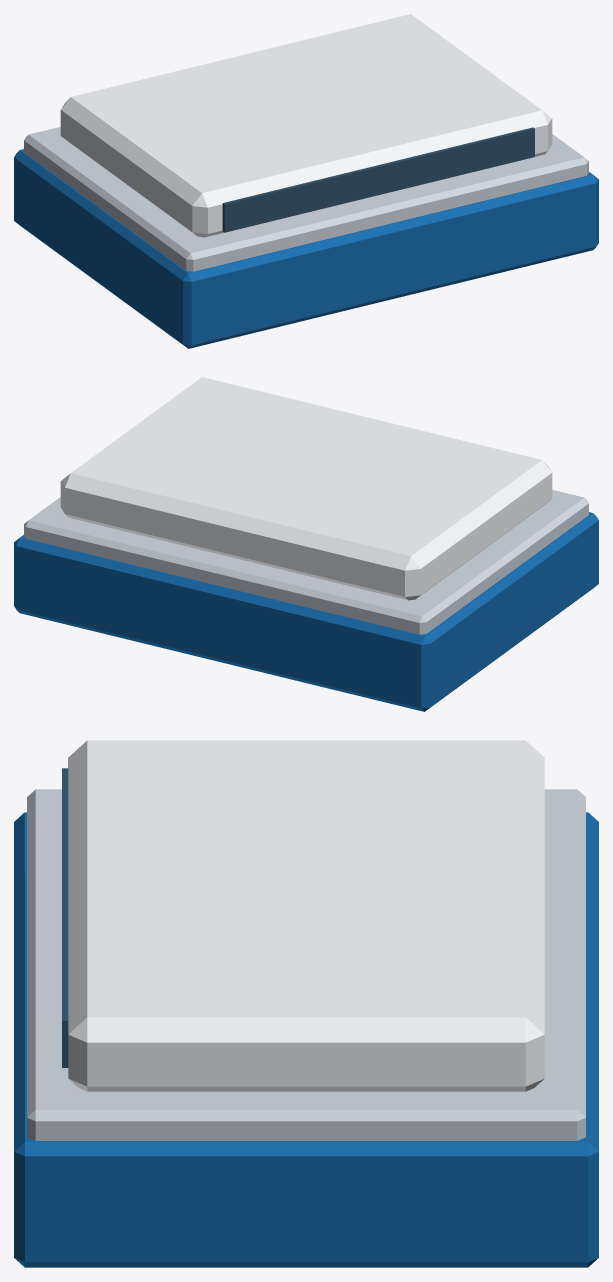
Rendered from SM_MPR4_RoofLight.fbx.
The picture shows the model from 3 angles, top to bottom: view 1: azimuth 30°, elevation 25°; view 2: azimuth 150°, elevation 25°; view 3: azimuth 270°, elevation 25°; orthographic projection. The views are drawn at different scales.
Visible parts, largest first — view 1: SM_MPR4_RoofLight; view 2: SM_MPR4_RoofLight; view 3: SM_MPR4_RoofLight.
Boxes of the visible parts, bbox=[...] form: SM_MPR4_RoofLight: bbox=[14, 14, 598, 348]; SM_MPR4_RoofLight: bbox=[14, 377, 598, 711]; SM_MPR4_RoofLight: bbox=[14, 740, 598, 1267].
Size of the model in its own units: 185 by 135 by 57.
